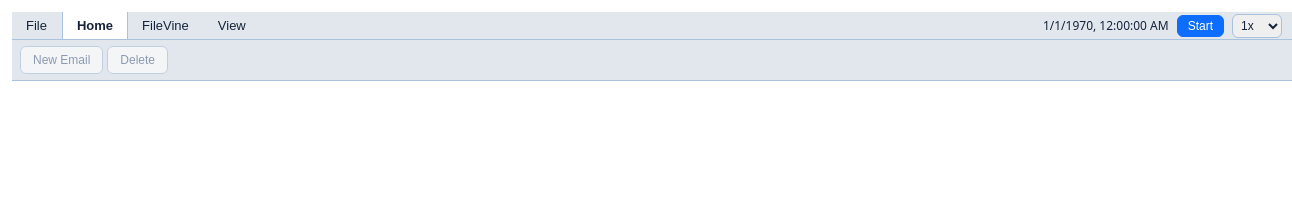
Test case: RibbonBar › About entry (035) › clicking About shows the app version sourced from window.api.app.getVersion()
Click the button "File".
click(37, 26)  # box [12,12,62,39]
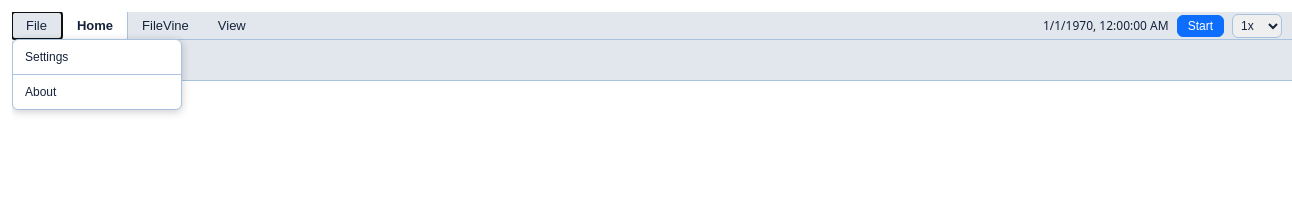
Click the menu item "About".
click(97, 92)  # box [13,79,181,105]
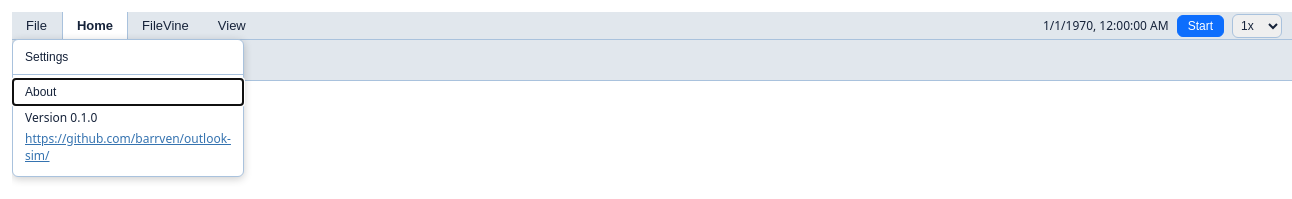
Expected: the text "Version 0.1.0" is shown, [25,109,97,126]
